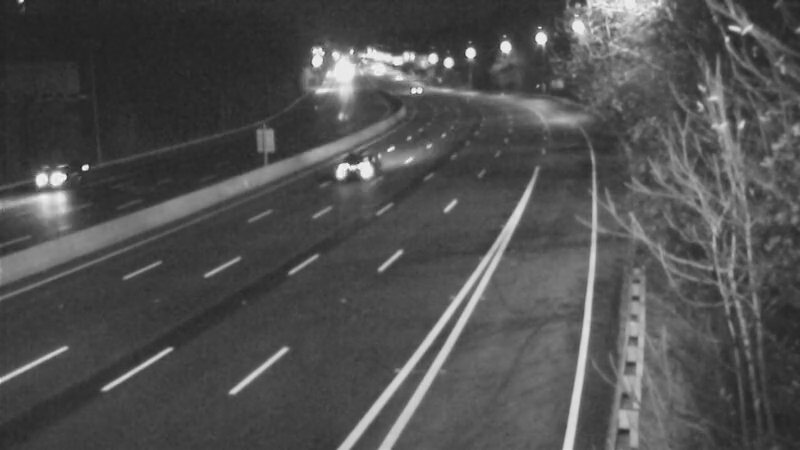vehicle: (325, 115, 405, 195), (12, 137, 92, 217), (392, 64, 442, 114)
